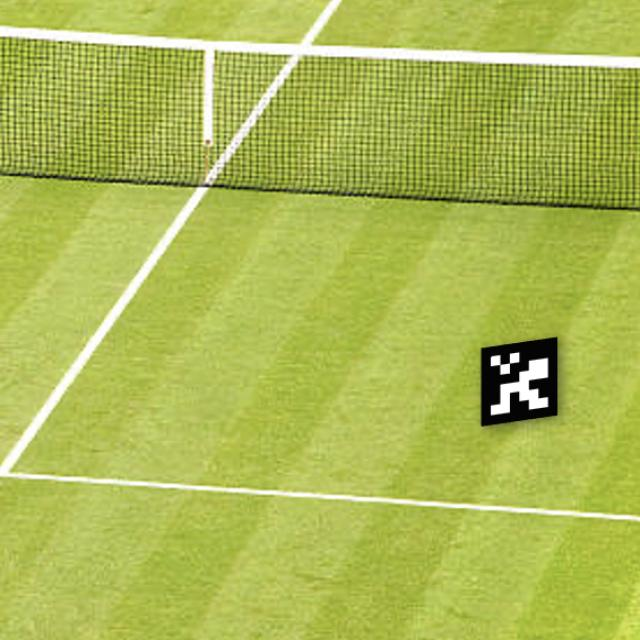marker: (466, 326, 574, 436)
